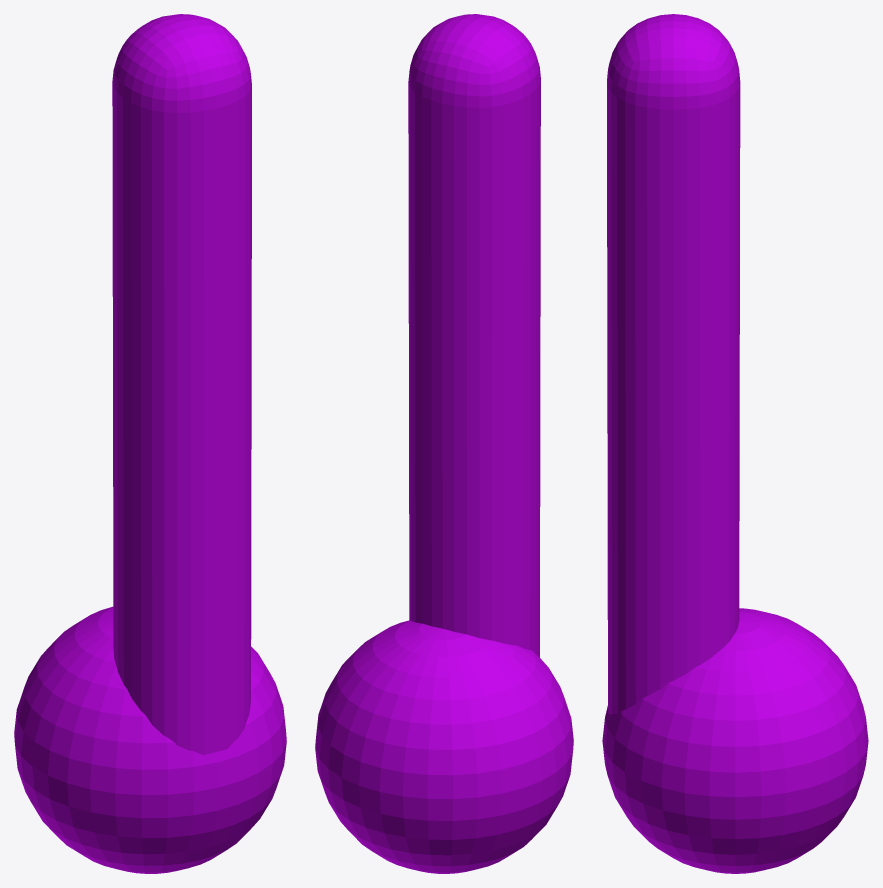
Rendered from PurpleMood.fbx.
The picture shows the model from 3 angles, left to right: view 1: azimuth 30°, elevation 25°; view 2: azimuth 150°, elevation 25°; view 3: azimuth 270°, elevation 25°; orthographic projection. The views are drawn at different scales.
Visible parts, largest first — view 1: 球體; view 2: 球體; view 3: 球體.
Boxes of the visible parts, bbox=[...] form: 球體: bbox=[14, 14, 286, 873]; 球體: bbox=[315, 14, 573, 873]; 球體: bbox=[602, 14, 868, 873].
Bounding box in the file's own units: 267 × 931 × 267.
